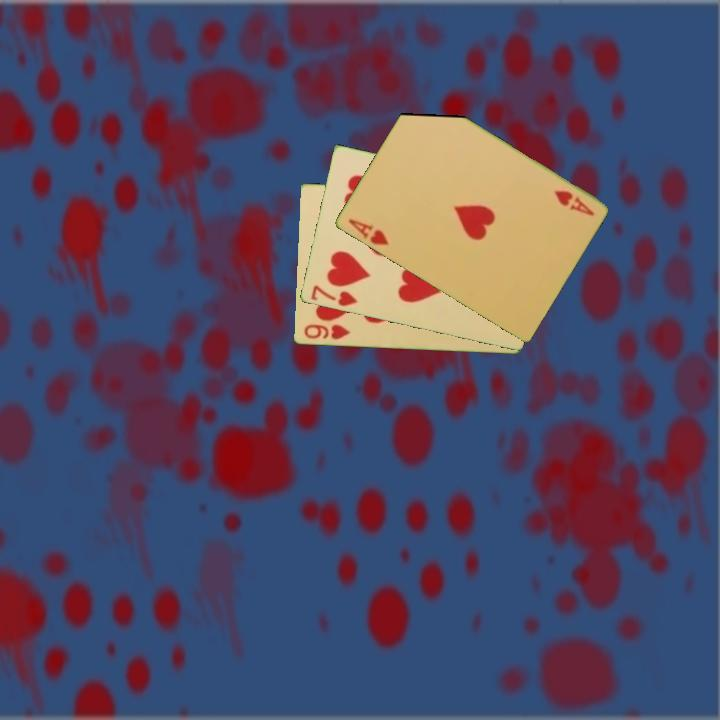7h: (307, 281, 360, 309)
9h: (300, 321, 353, 342)
Ah: (344, 215, 391, 248), (551, 187, 596, 219)
